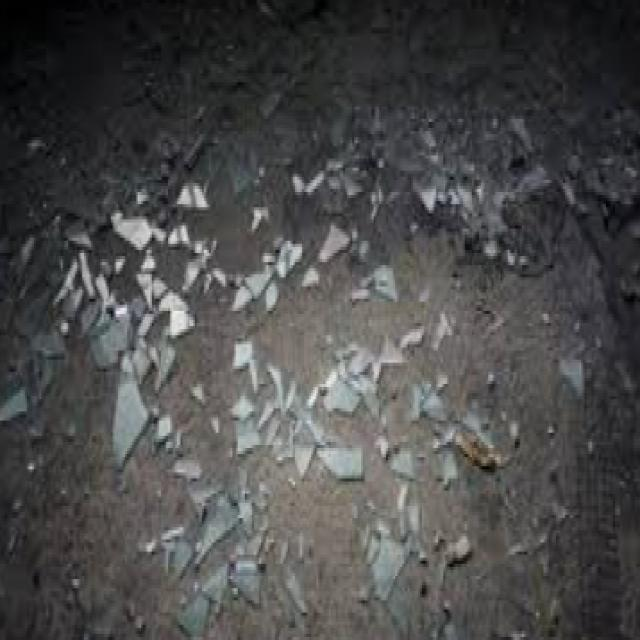PecahanKaca: (30, 88, 556, 634)
